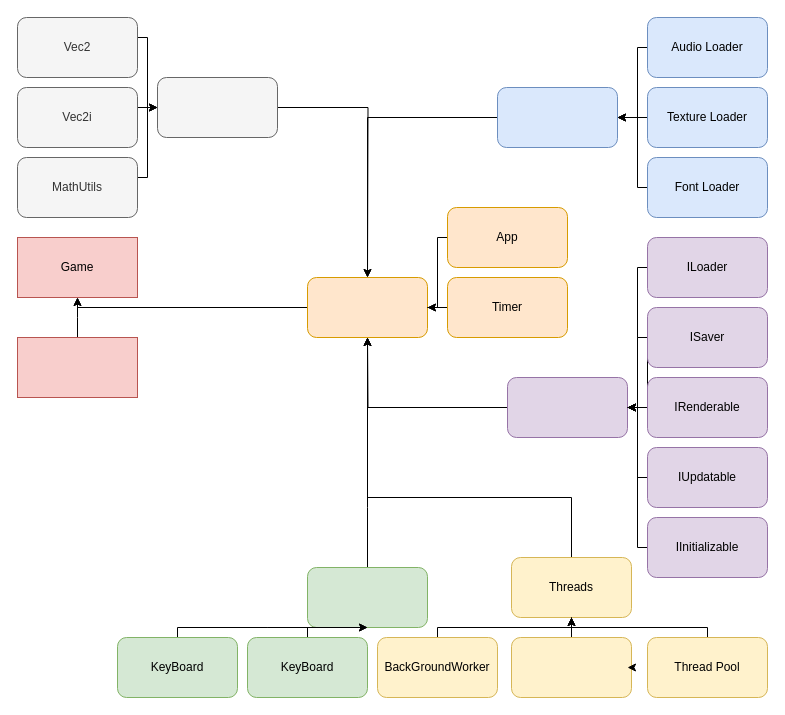
The diagram is 785 pixels wide and 715 high, and some of its shapes have lost their labels. The centre of each missing label's shape, as x and y in pixels:
Asset Manager: the point at 557,117
Core: the point at 367,307
Input: the point at 367,597
Interfaces: the point at 567,407
Math: the point at 217,107
SnapShot: the point at 571,667
UI: the point at 77,367
